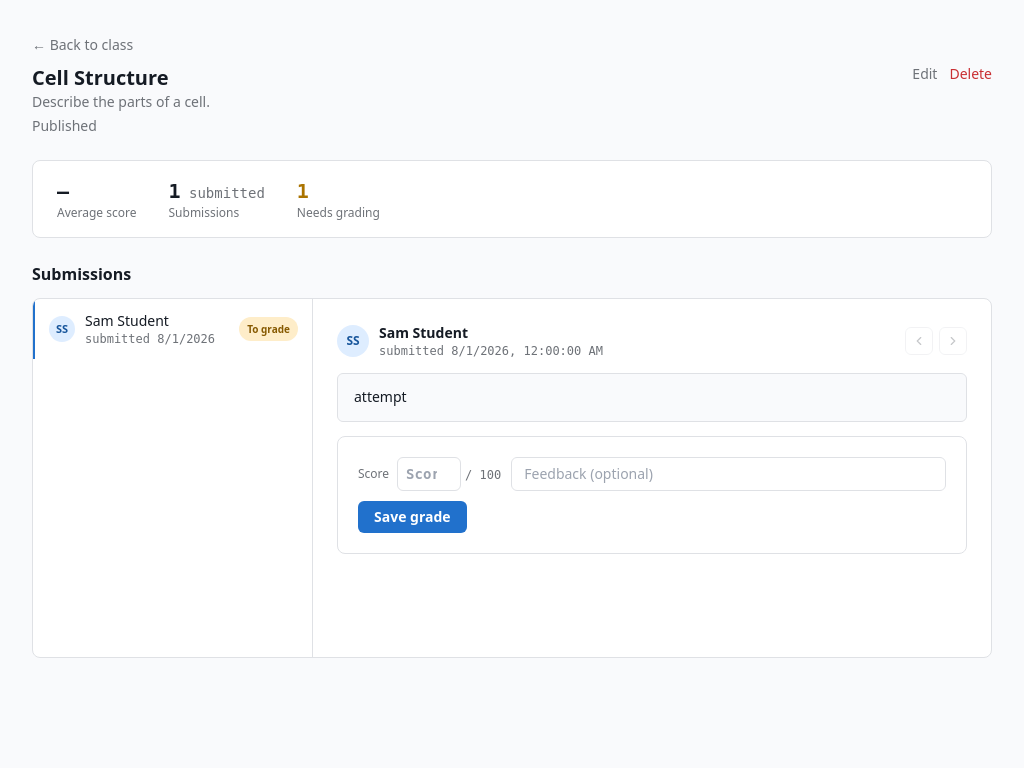
Test: AssignmentDetailPage › shows a generic error when grading throws a non-API error
Check: the 1st text "Sam Student" is shown, box [85,311,169,330]
Type "50" into the number field with placeholder "Score" at (429, 474), box [397,457,461,491]
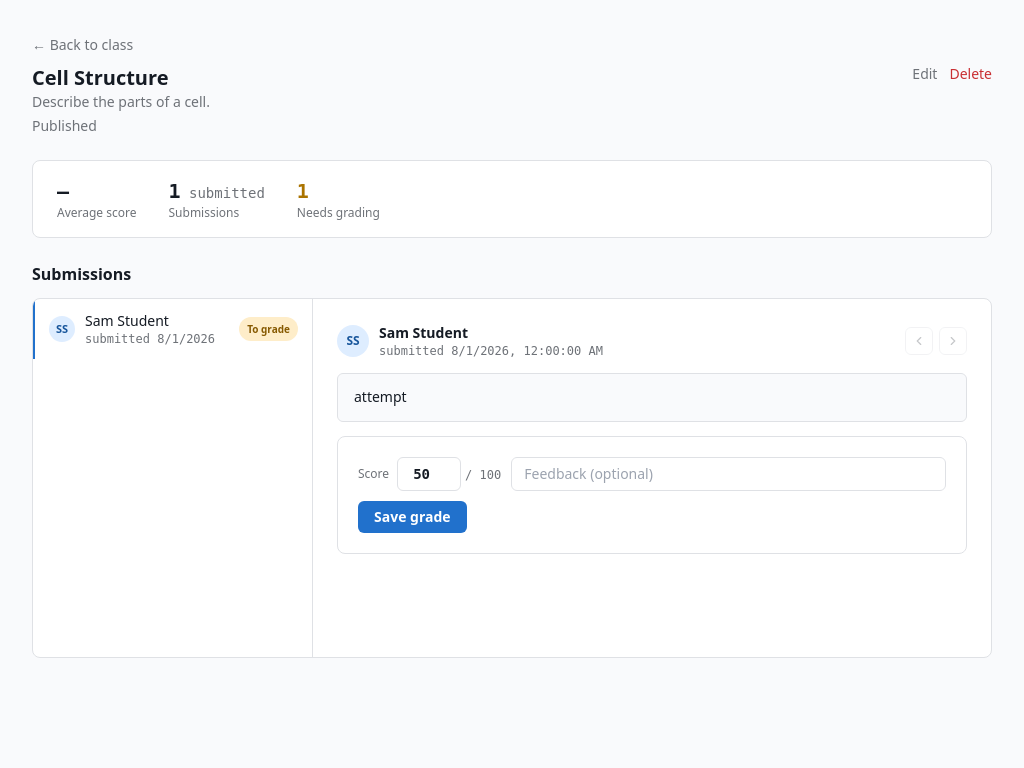
Click the button "Save grade" at (412, 517), box [358,501,467,533]
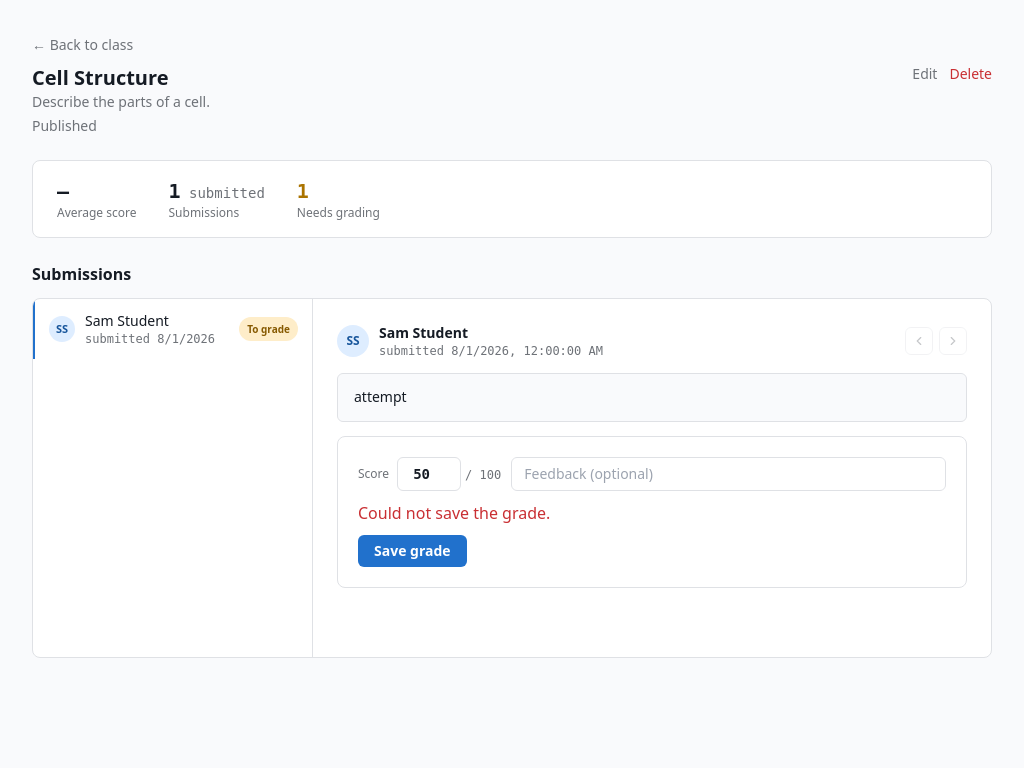
Check: the message shows "Could not save the grade", box [358,502,550,524]
